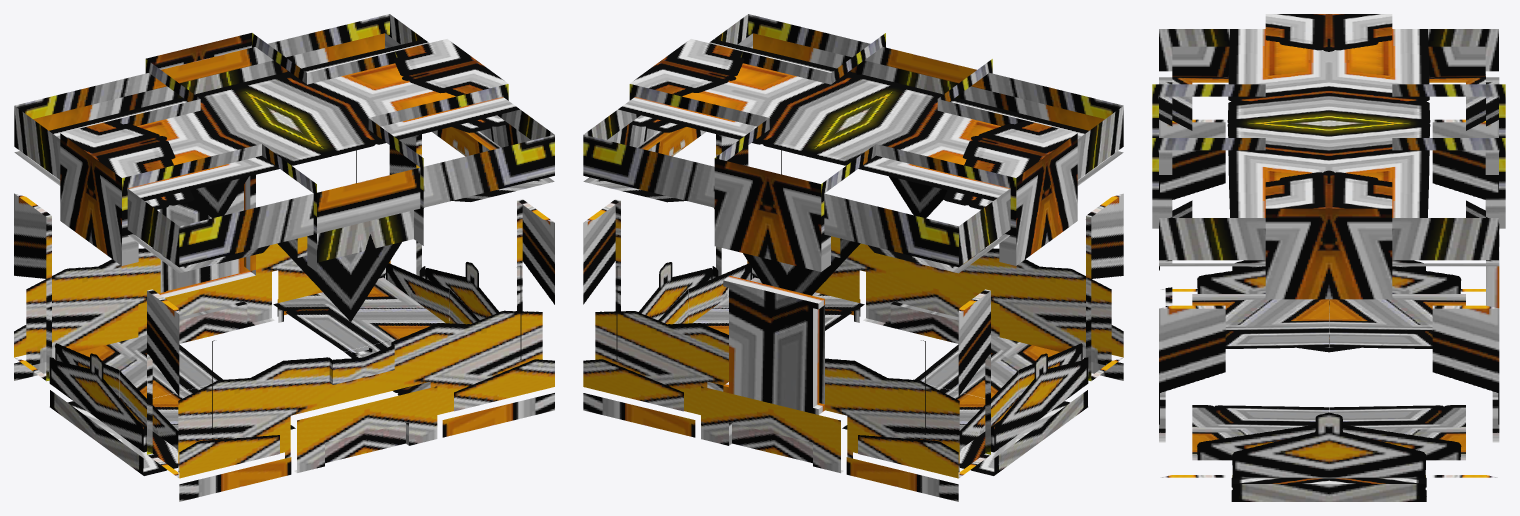
Rendered from new_year2_chest_1.fbx.
3 renders of one model, left to right at view 1: azimuth 30°, elevation 25°; view 2: azimuth 150°, elevation 25°; view 3: azimuth 270°, elevation 25°, orthographic. The views are drawn at different scales.
Visible parts, largest first — view 1: new_year2_chest_1, lid_event_chest_1_mesh; view 2: new_year2_chest_1, lid_event_chest_1_mesh; view 3: lid_event_chest_1_mesh, new_year2_chest_1.
Part boxes in pixels (box(x1,y1,x2,y2)): new_year2_chest_1: box(14, 131, 554, 501); lid_event_chest_1_mesh: box(14, 14, 554, 271); new_year2_chest_1: box(583, 131, 1123, 501); lid_event_chest_1_mesh: box(583, 14, 1123, 271); lid_event_chest_1_mesh: box(1152, 14, 1505, 299); new_year2_chest_1: box(1159, 74, 1499, 501).
Bounding box in the file's own units: 3.63 × 2.58 × 2.79.
